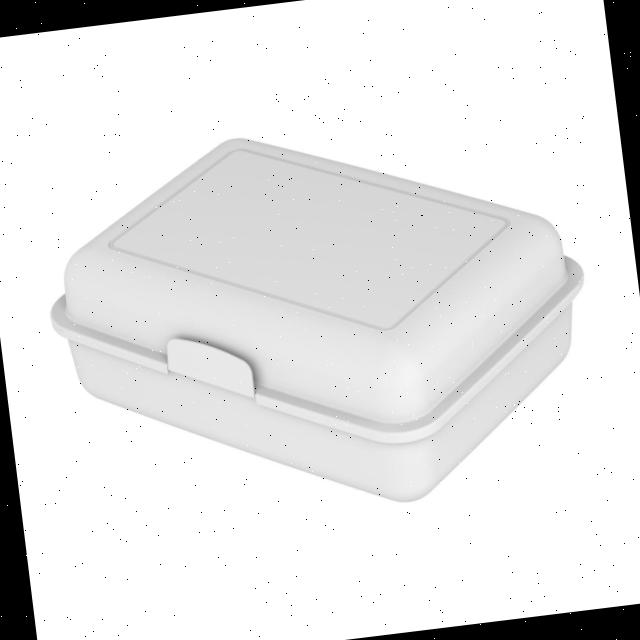styrofoam: (29, 95, 610, 542)
